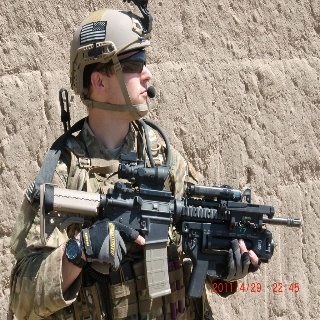rifle: (38, 150, 303, 301)
